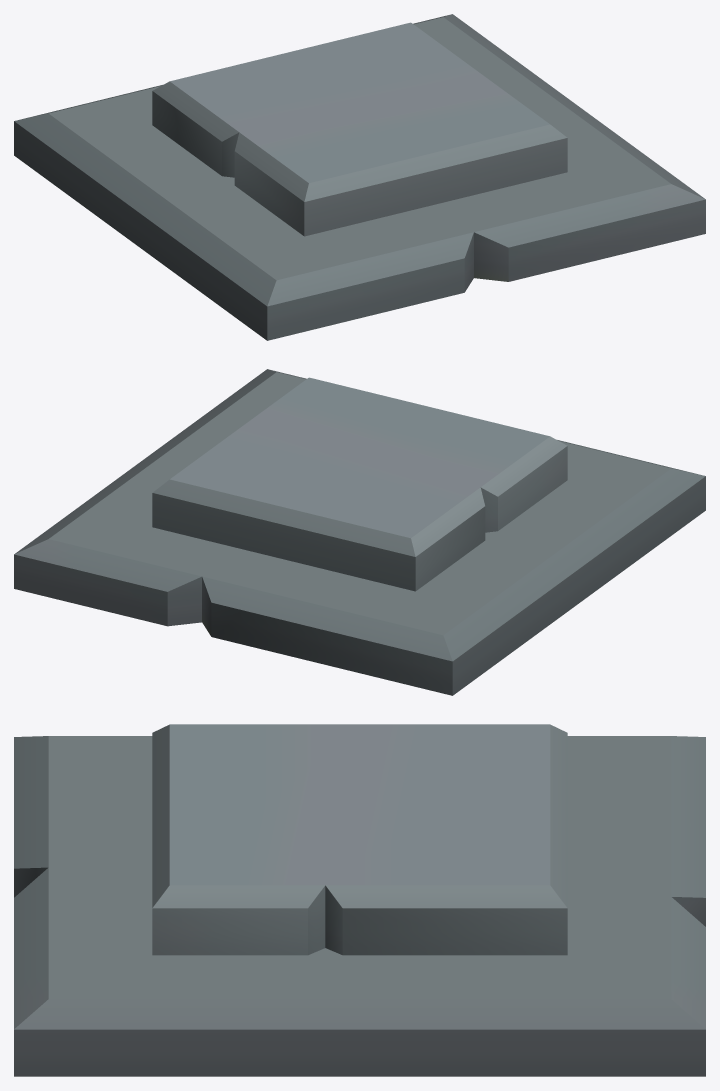
File: kay-placa-memorial.gltf
3 views of the same model, one above another, from view 1: azimuth 30°, elevation 25°; view 2: azimuth 150°, elevation 25°; view 3: azimuth 270°, elevation 25° (orthographic). The views are drawn at different scales.
Visible parts, largest first — view 1: plaque; view 2: plaque; view 3: plaque.
Part boxes in pixels (left/top/right/bottom): plaque: left=14, top=14, right=705, bottom=340; plaque: left=14, top=369, right=705, bottom=695; plaque: left=14, top=724, right=705, bottom=1076.
Size of the model in its own units: 1 by 0.2 by 1.
Materials: 1 (1 with a texture image).
